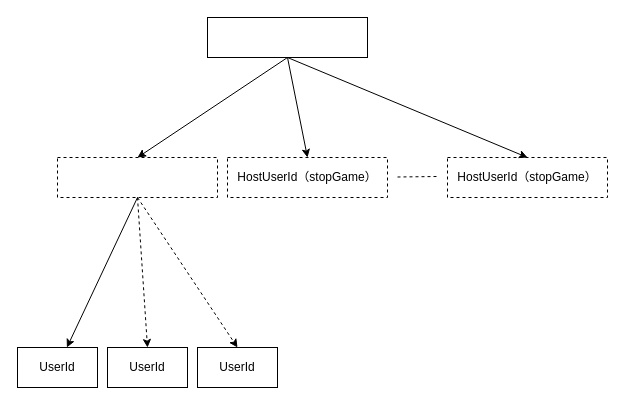
Image size: 625x405. Some labels were removed from this diagram. Each missing label, with the centre of its shape:
HostUserId（stopGame）: the point at 137,177
RoomId: the point at 287,37
